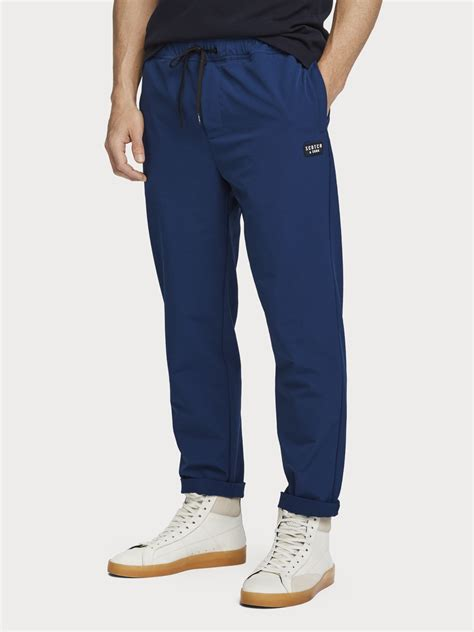nylon: (141, 41, 346, 514)
